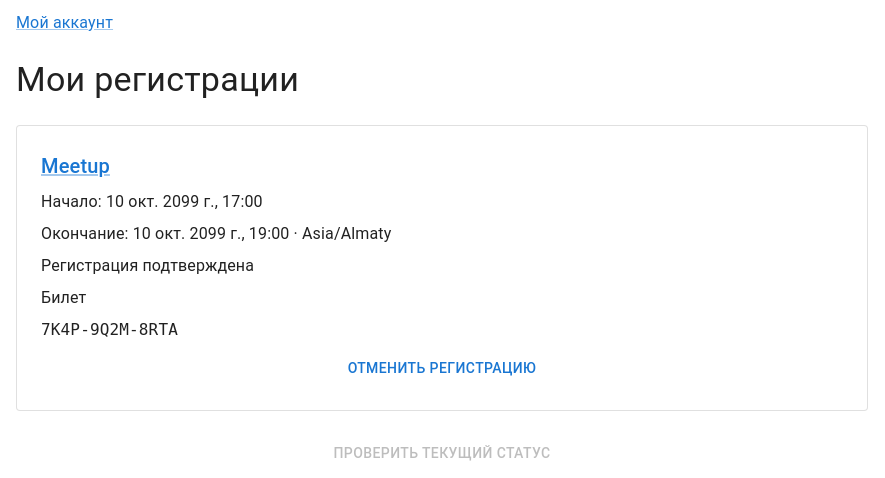
cancel success survives delayed list and own detail GETs
This screenshot has width=885, height=478.
Expected: the text "7K4P-9Q2M-8RTA" is shown, [41,320,178,339]
What coordinates should you click on to do the following:
click the button "Отменить регистрацию"
I would click on:
 (442, 368)
Its box is [41,350,843,386].
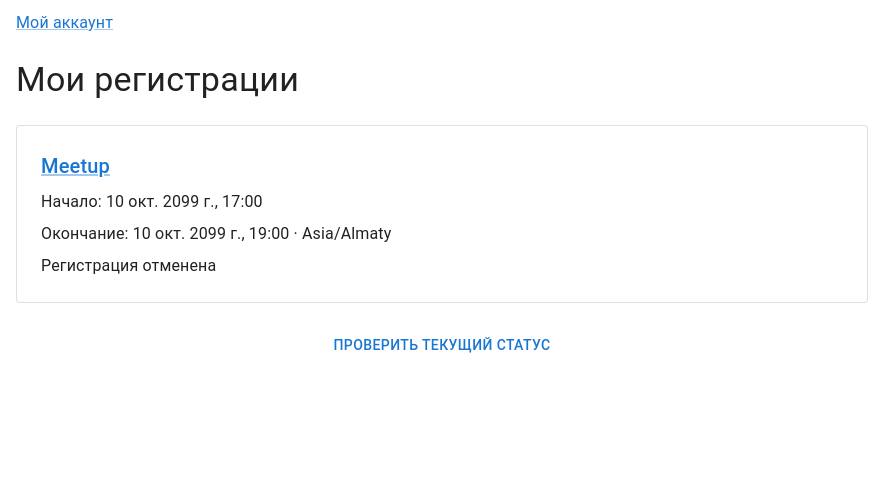
Expected: the text "Регистрация отменена" is shown, [41,256,216,275]
Expected: the text "7K4P-9Q2M-8RTA" is gone
